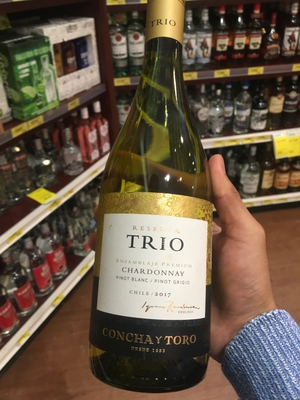trio chardonnay: (87, 13, 220, 382)
